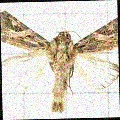Spodoptera litura: (2, 9, 119, 114)
